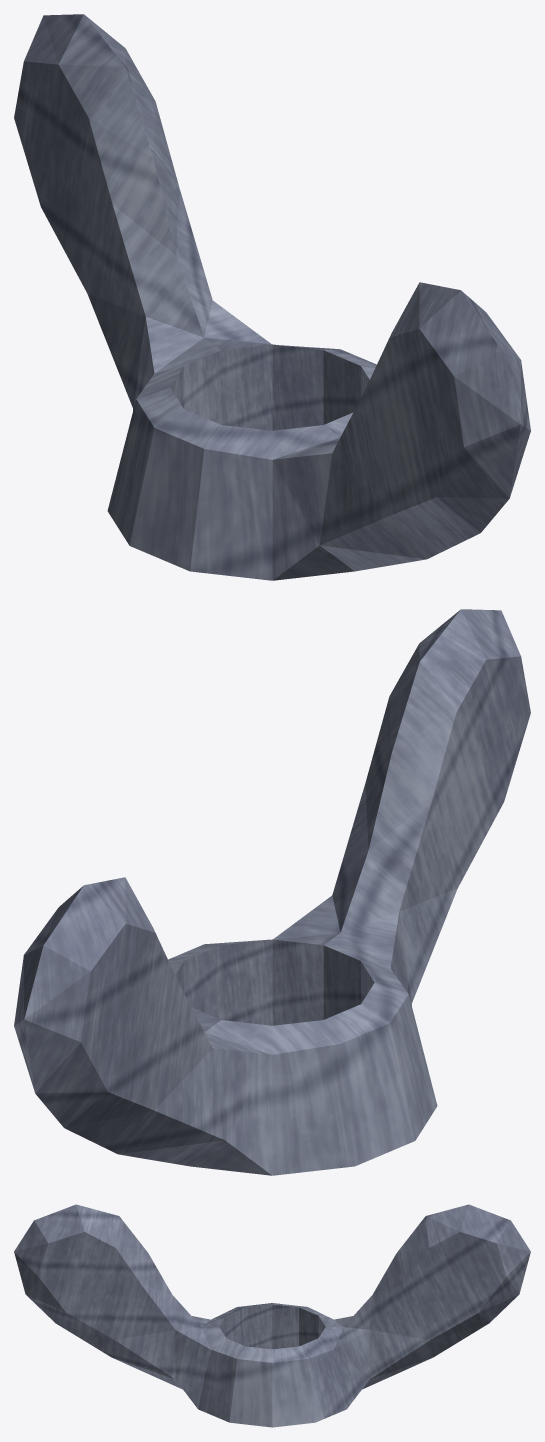
Rendered from bflyscrew.obj.
3 renders of one model, top to bottom at view 1: azimuth 30°, elevation 25°; view 2: azimuth 150°, elevation 25°; view 3: azimuth 270°, elevation 25°, orthographic. The views are drawn at different scales.
Parts seen in each view (by area): view 1: Cylinder; view 2: Cylinder; view 3: Cylinder.
Part boxes in pixels (box(x1,y1,x2,y2)): Cylinder: box(14, 14, 530, 580); Cylinder: box(14, 609, 530, 1175); Cylinder: box(14, 1204, 530, 1427).
Size of the model in its own units: 0.4845 by 0.5814 by 1.46.
1 material, 1 textured.
